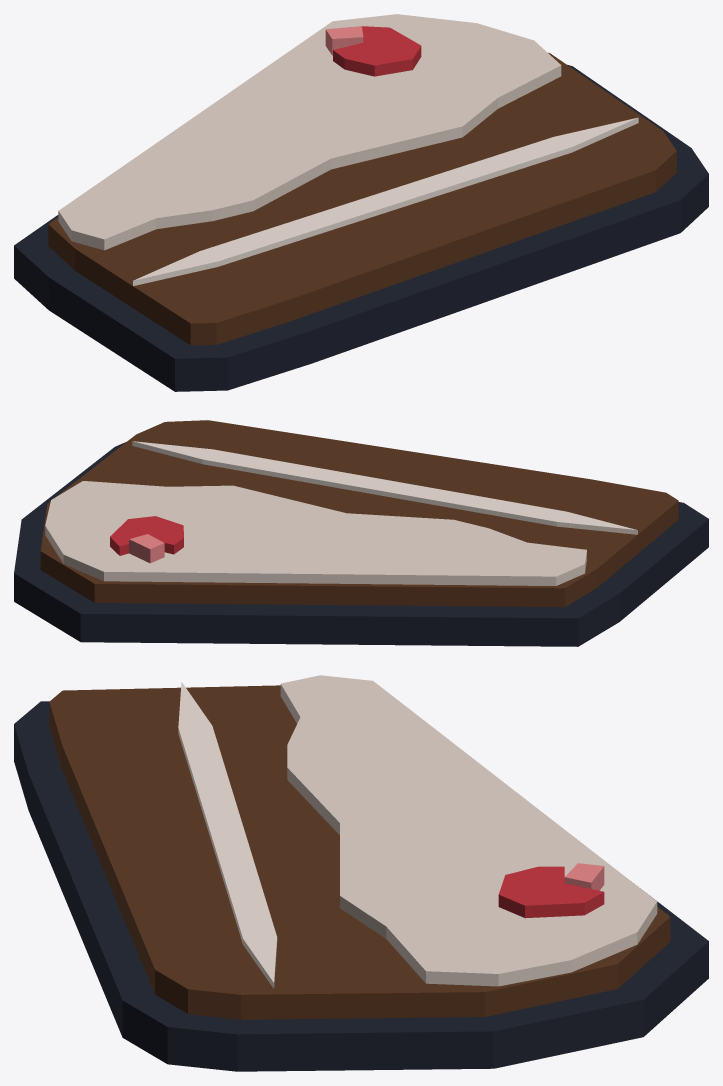
Rendered from cake.fbx.
3 renders of one model, top to bottom at view 1: azimuth 30°, elevation 25°; view 2: azimuth 150°, elevation 25°; view 3: azimuth 270°, elevation 25°, orthographic. The views are drawn at different scales.
Visible parts, largest first — view 1: cake; view 2: cake; view 3: cake.
Boxes of the visible parts, box(x1,y1,x2,y2) form: cake: box(14, 14, 708, 391); cake: box(14, 420, 708, 646); cake: box(14, 675, 708, 1071).
Bounding box in the file's own units: 1.17 × 0.15 × 1.01.
Materials: 1 (1 with a texture image).
